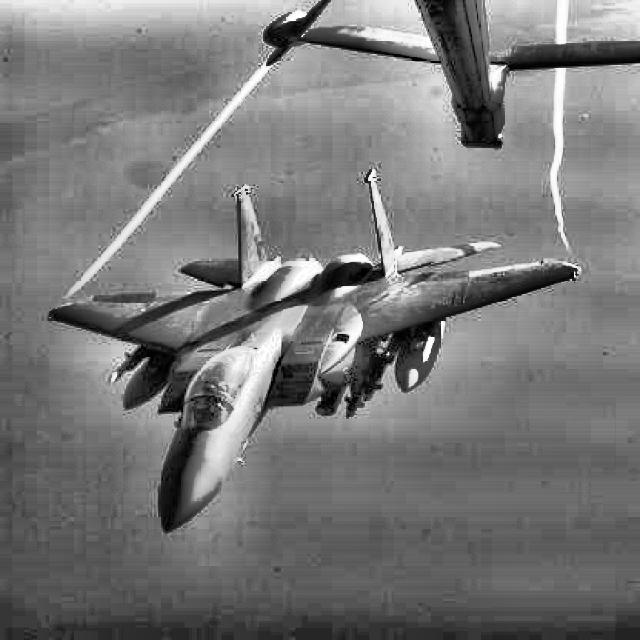F15: (46, 167, 585, 535)
